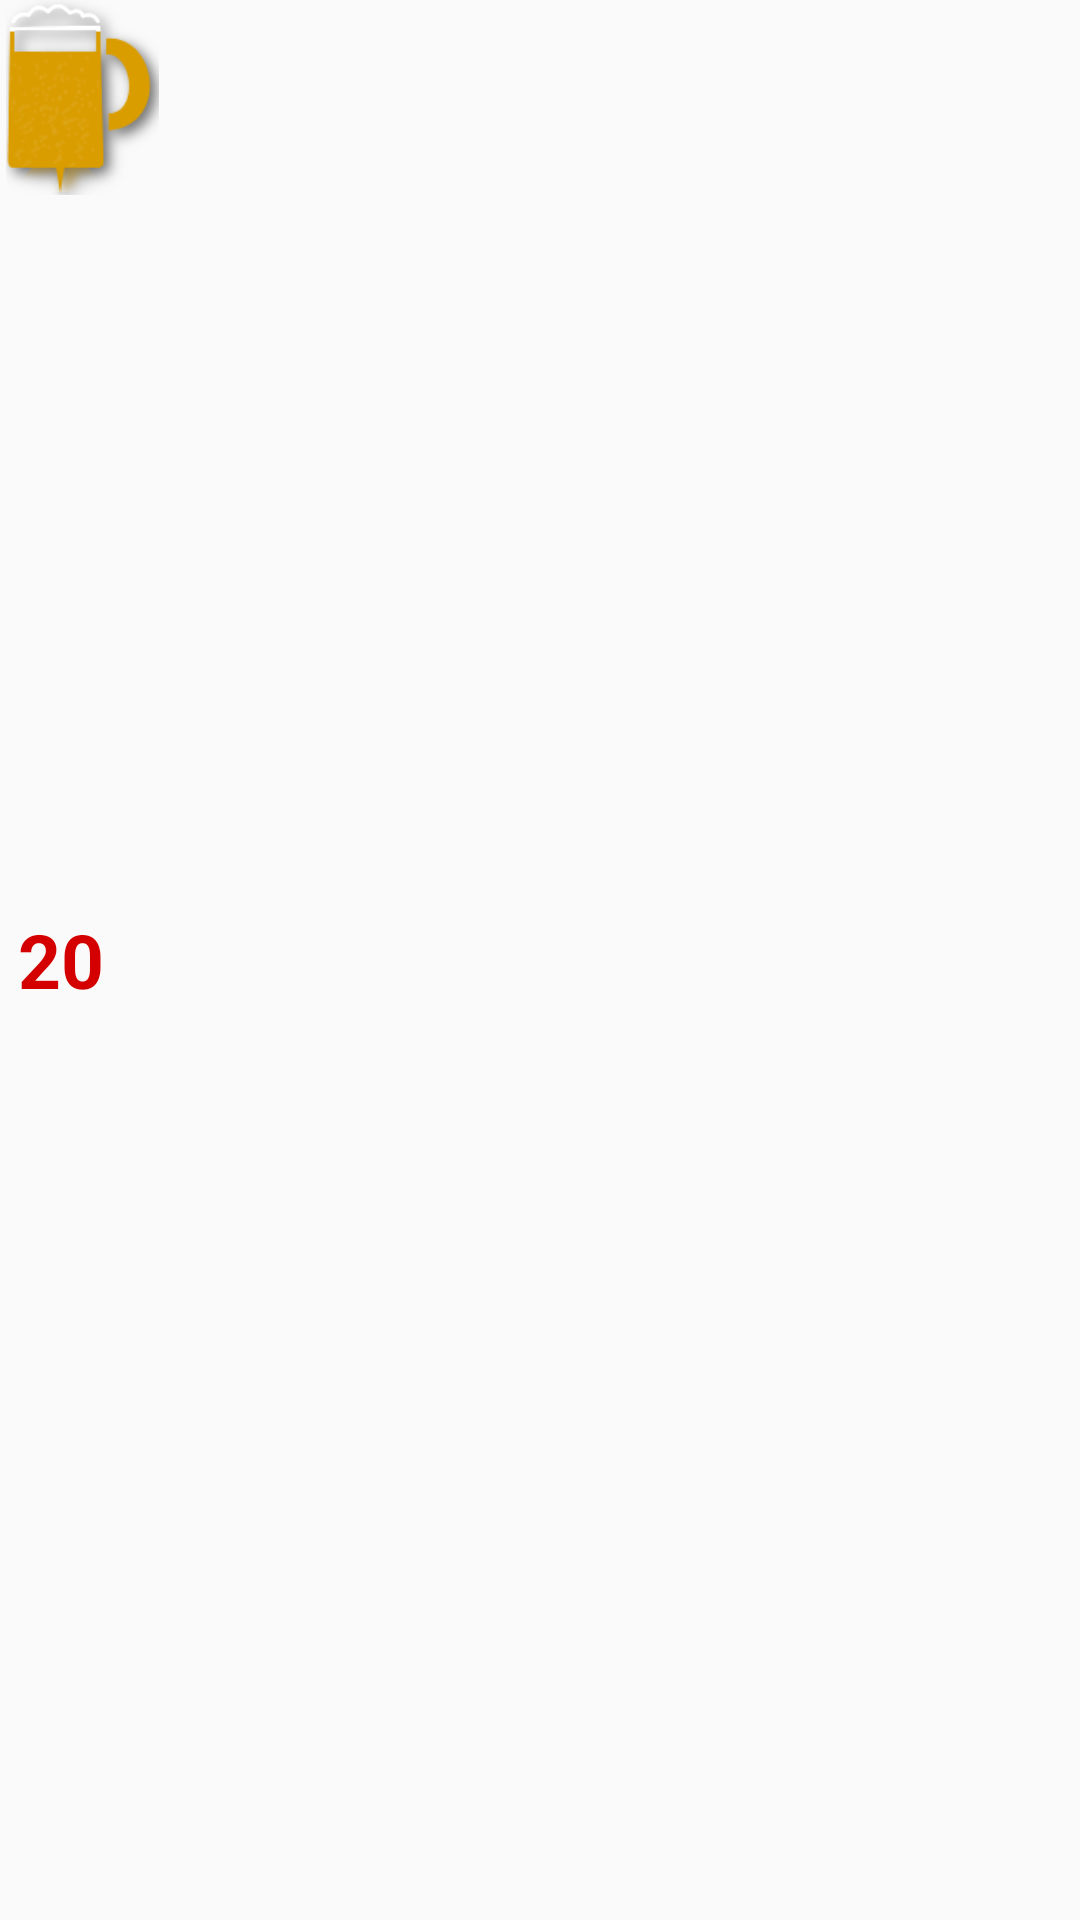

Icons on this 1080x1920 Android screen, each with the point to tap as [x,y]:
custom marker: [83,102]
